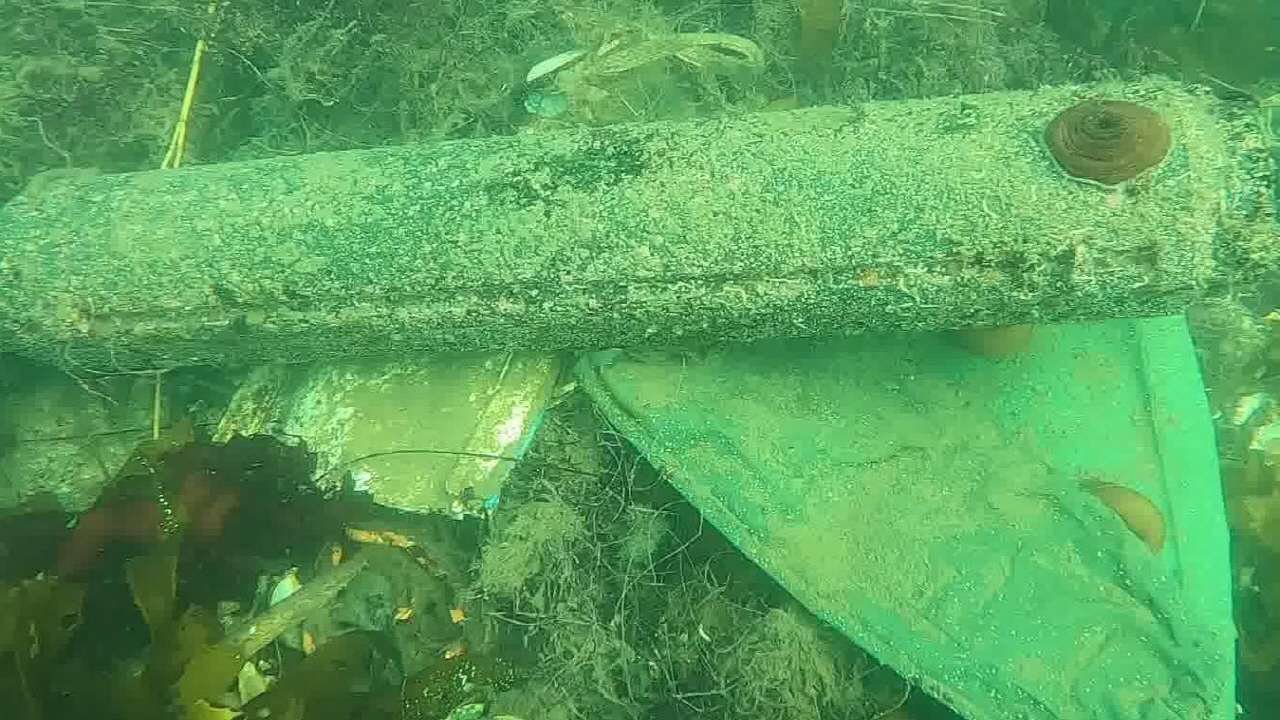eel fish trap: (0, 73, 1280, 374)
